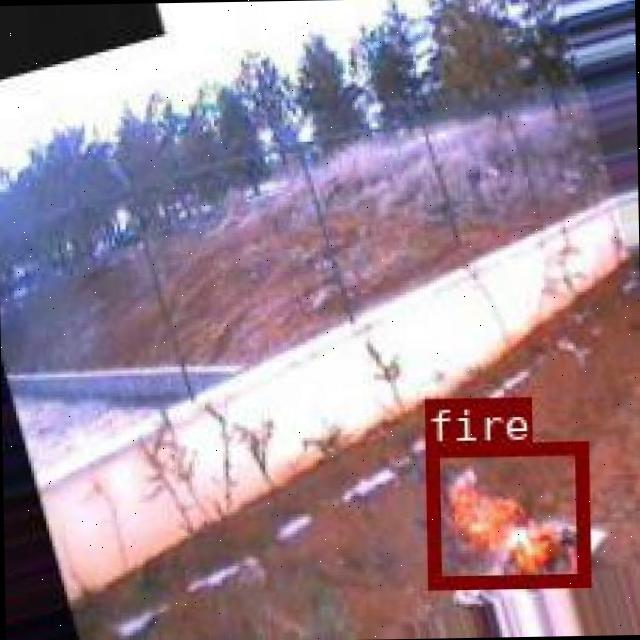fire: (423, 439, 588, 586)
